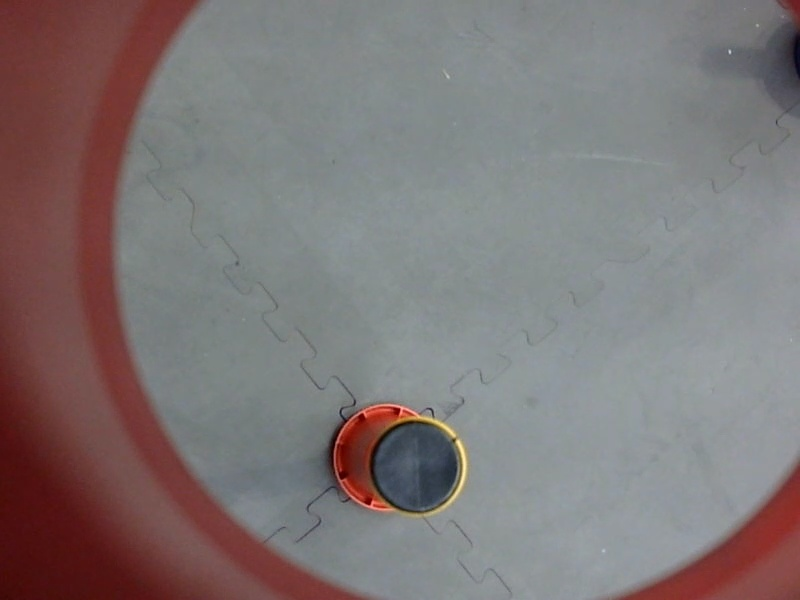tip: (365, 412, 473, 527)
